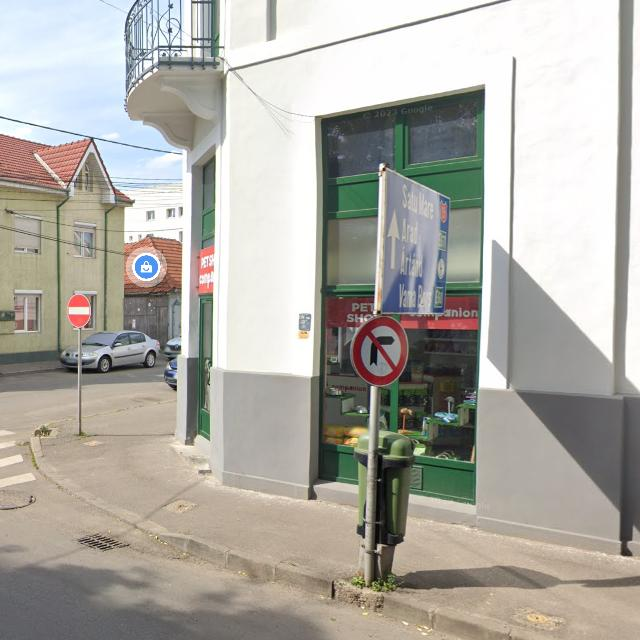forb_ahead: (66, 294, 92, 328)
forb_right: (351, 316, 408, 386)
